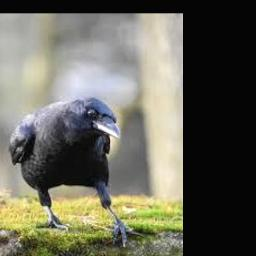Crow: (8, 98, 140, 247)
